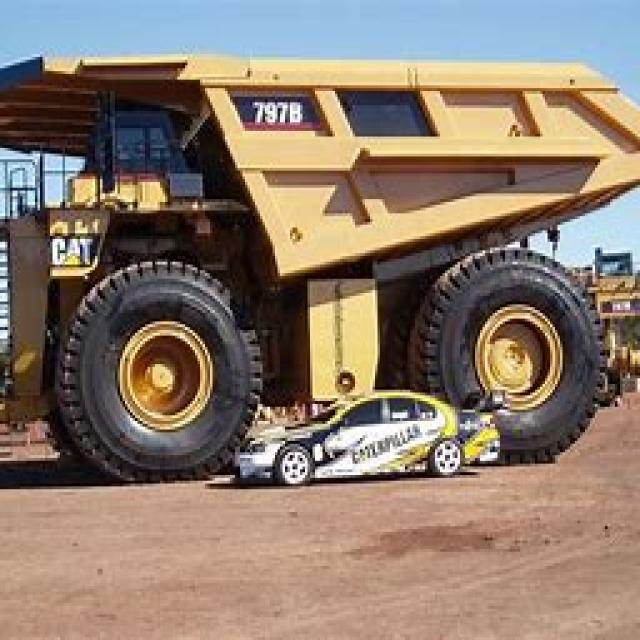dump_truck: (0, 40, 632, 495)
